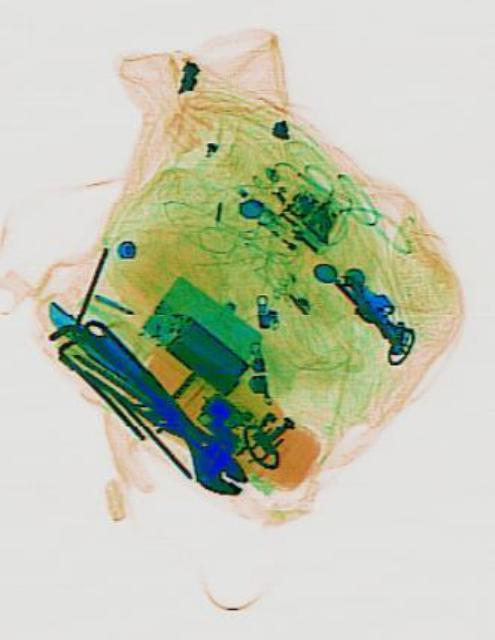Wrench: (66, 305, 251, 509)
